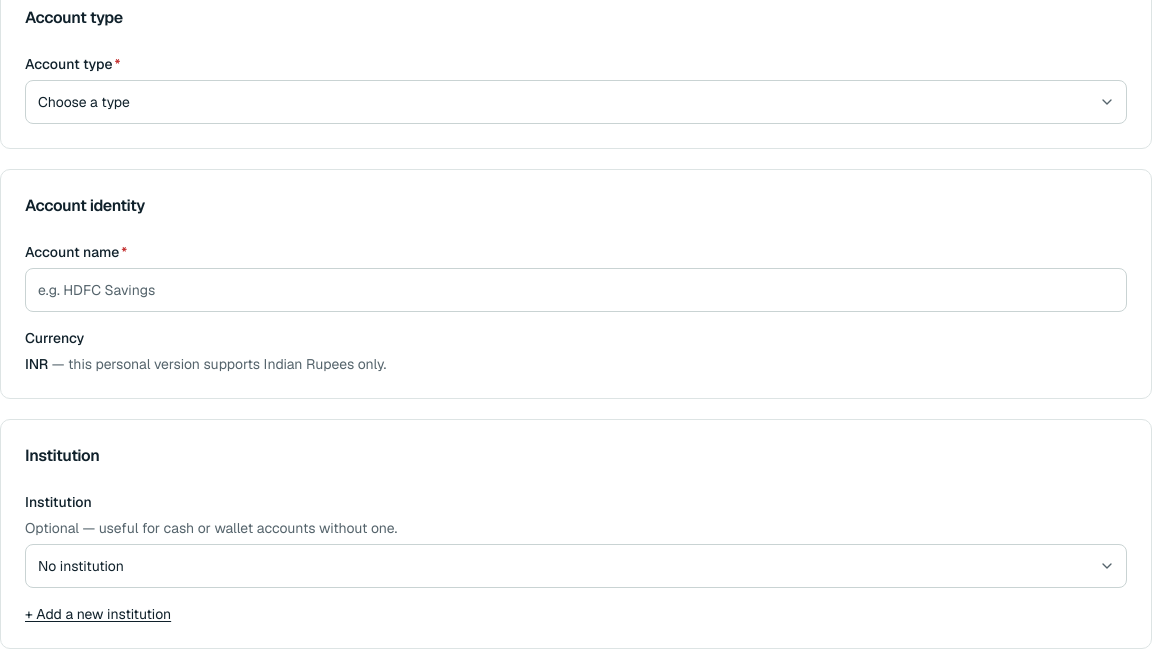
Test: AccountForm › hides the credit limit field until a credit card type is chosen
Expected: the field labelled "Credit limit" is not shown
Select "Credit card" in the dropdown labelled "Account type" at (576, 102), box [25,80,1127,124]
(page scrolled)
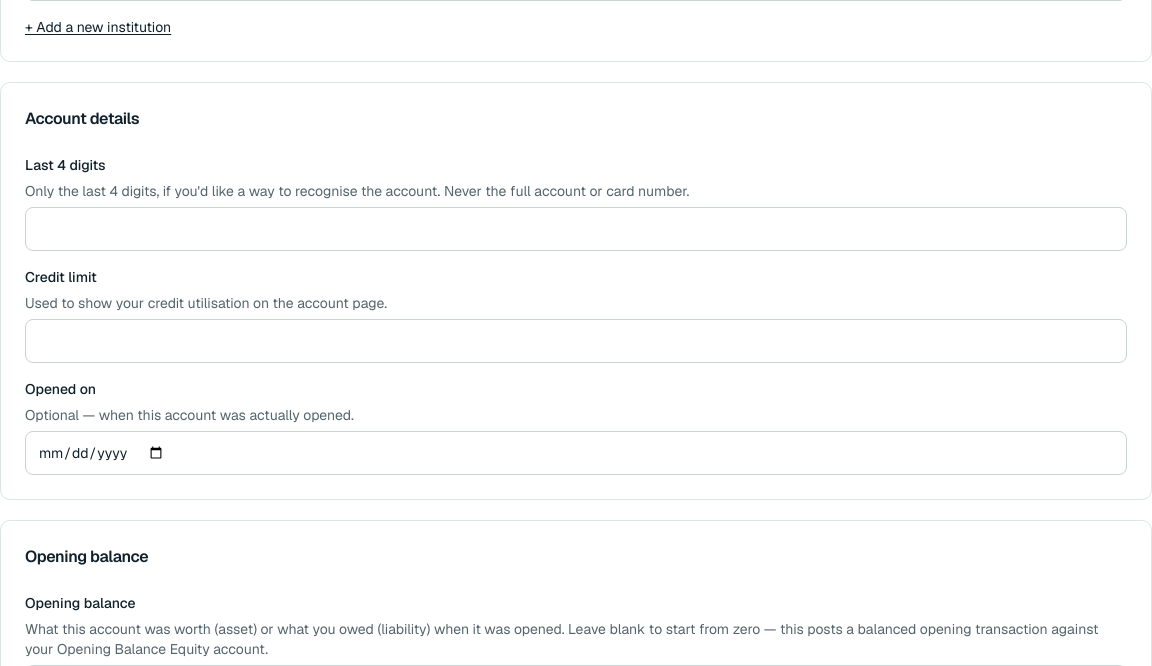
Now the field labelled "Credit limit" is shown, box [25,319,1127,363]
